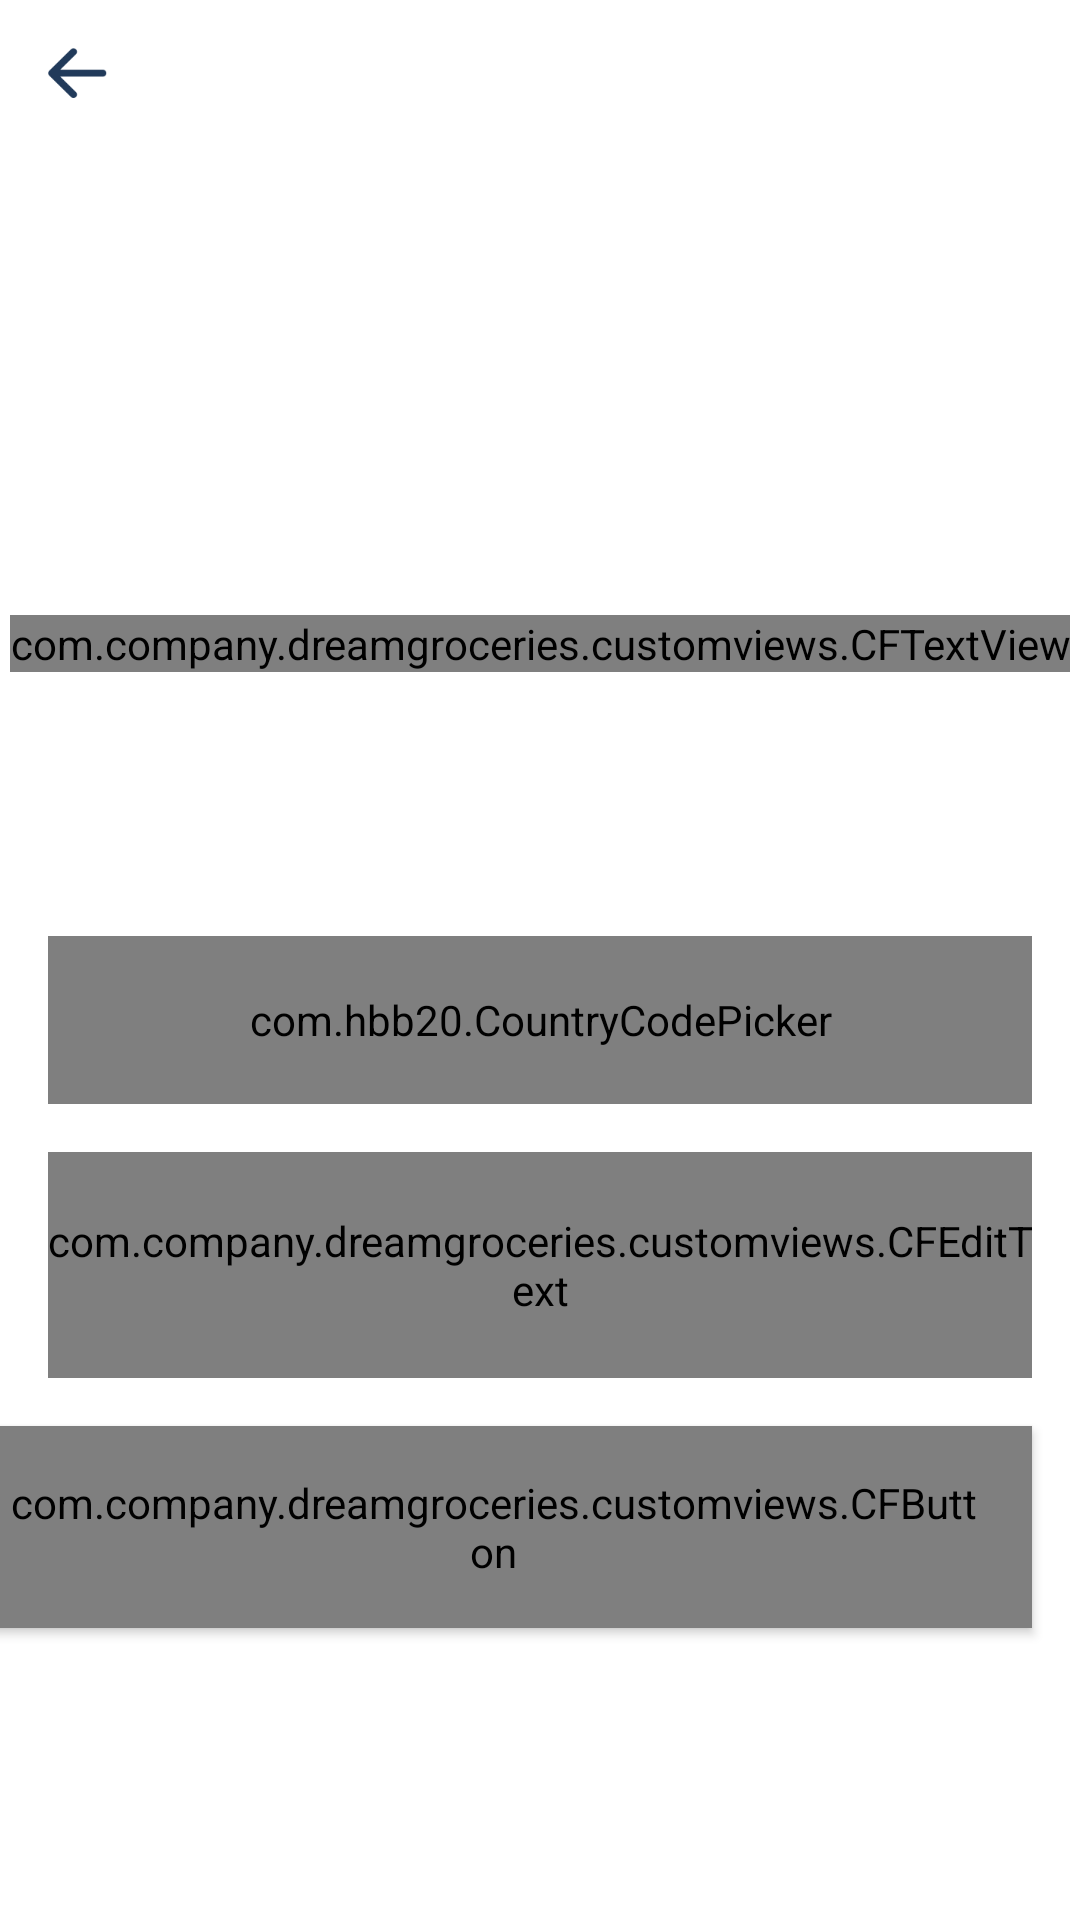

Where to tap for icons on this 1080×1920 app screen, as (x,y):
back: (77,73)
